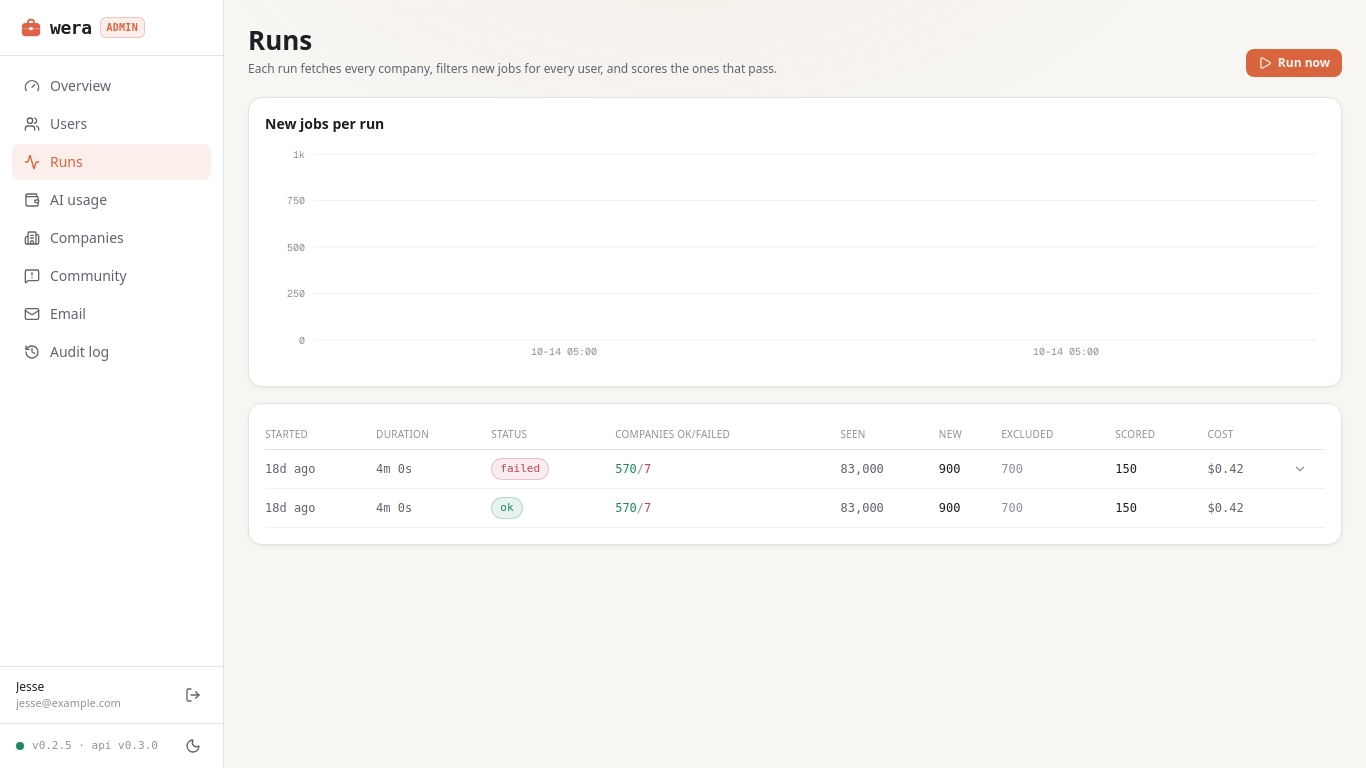
it: RunsPage › lists runs and shows a failed run's error
Check: the text "deadline exceeded" is not shown
Click the text "failed". click: (520, 469)
box: 491,458 -> 549,480
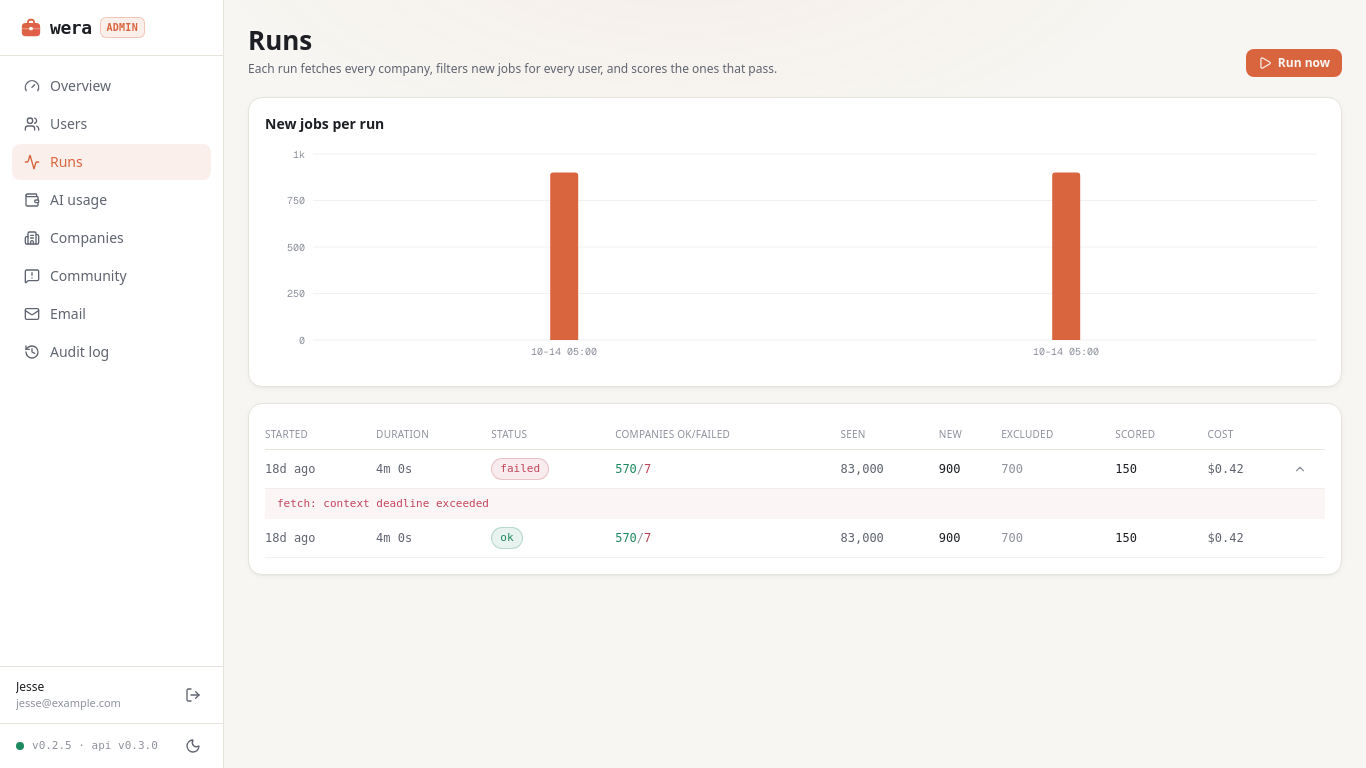
Check: the text "fetch: context deadline exceeded" is shown, box 265,488 -> 1325,520
